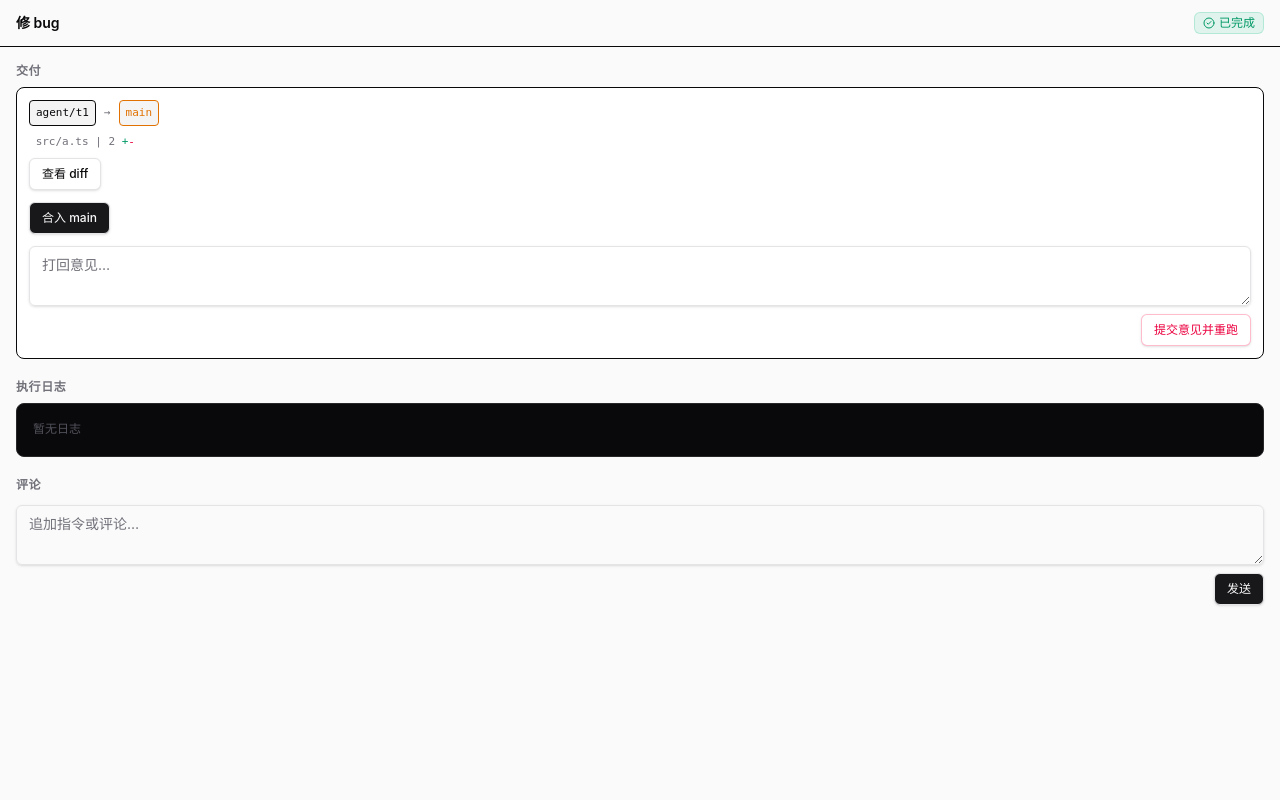
Test: TaskPanel › renders review zone with diff stat and merge button, merges on click
Expected: the heading "修 bug" is shown, [16, 14, 60, 31]
Expected: the text "agent/t1" is shown, [29, 100, 96, 126]
Click the button "合入 main" at (69, 218), box [29, 202, 110, 234]
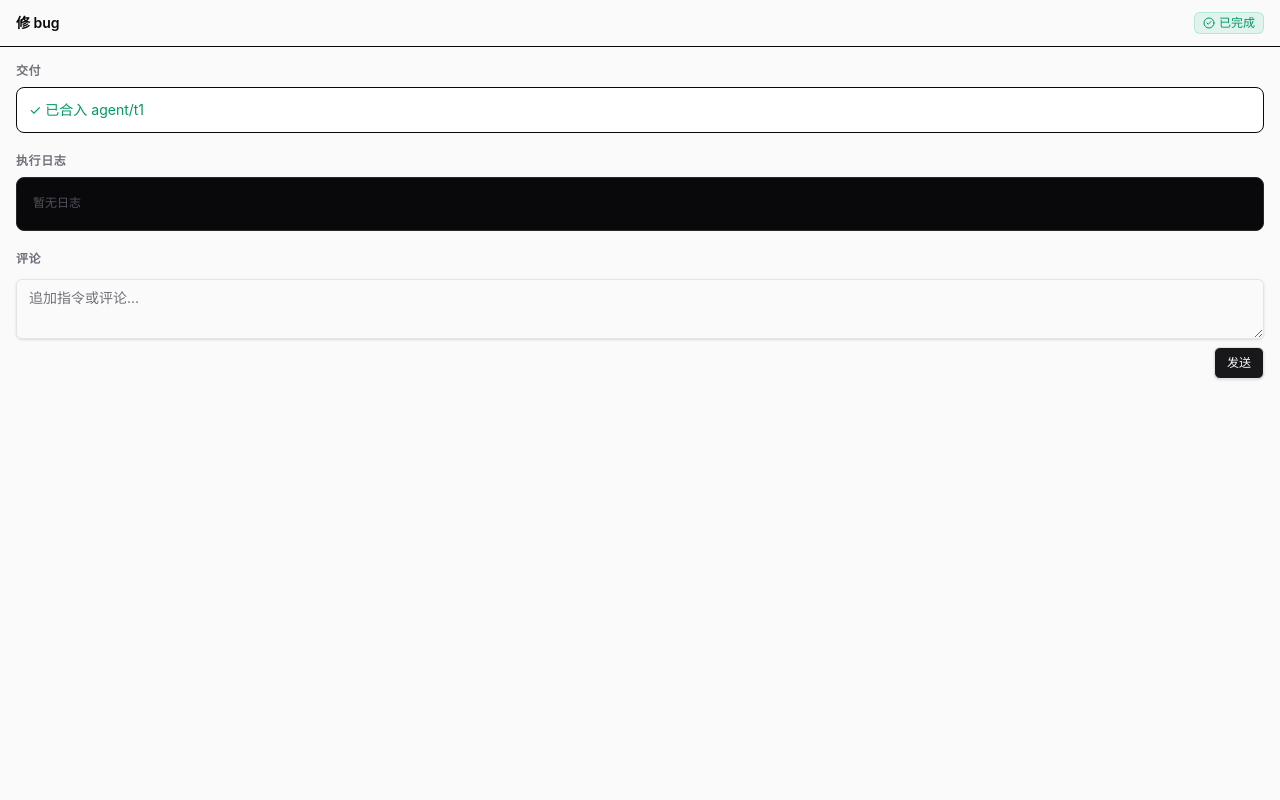
Expected: the text "✓ 已合入 agent/t1" is shown, [29, 101, 144, 118]
